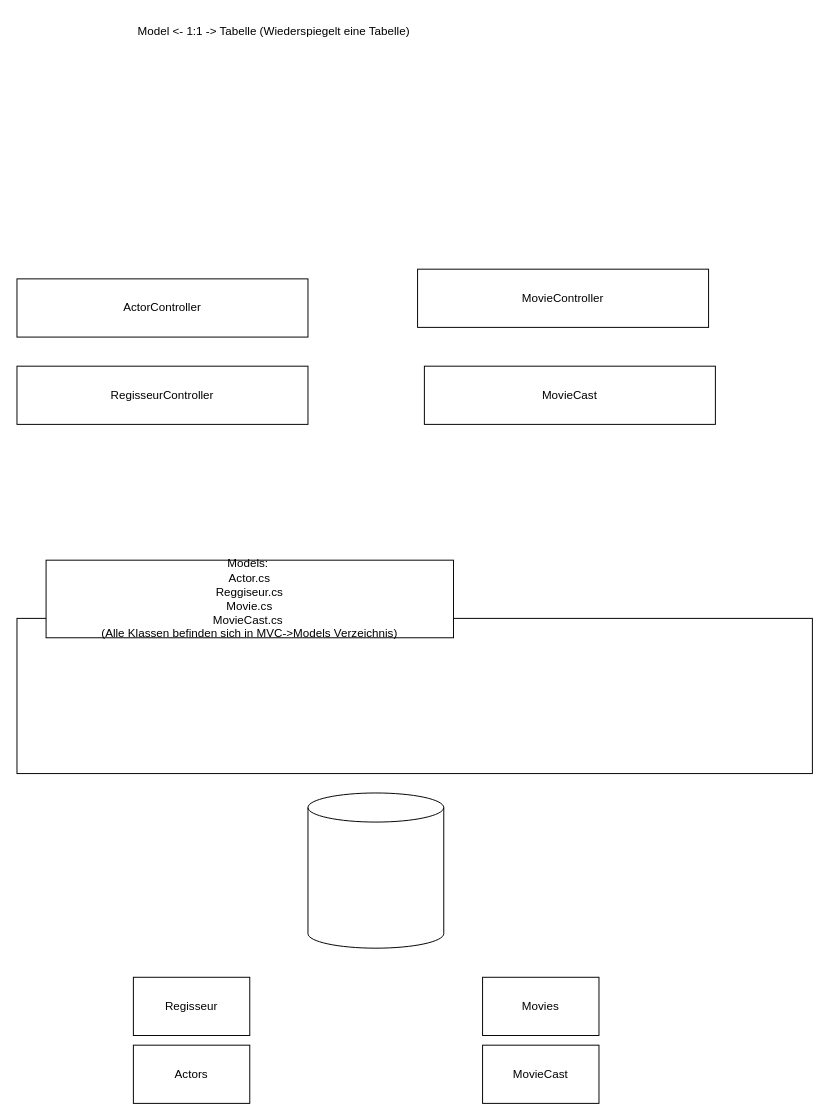
This 829x1120 diagram has some shape labels left out. Here are the shapes that lost their labels. From the top down, the box of each, then its label:
(16, 617, 812, 774): EFCore - Models (MVC->Models-verzeichnis)
(307, 792, 444, 948): Database
